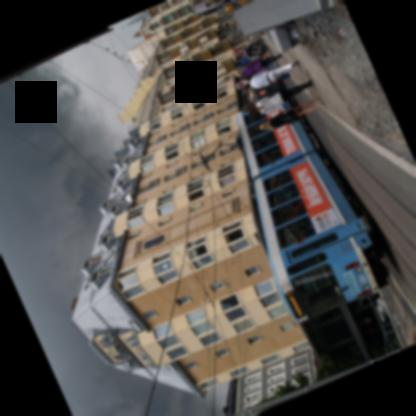handbag: (269, 113, 299, 124), (276, 72, 290, 79)
